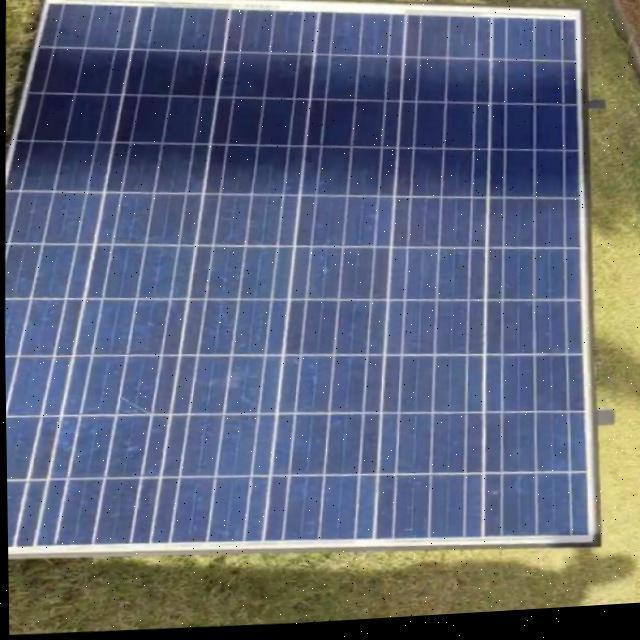Normal Solar Panel: (0, 0, 605, 582)
